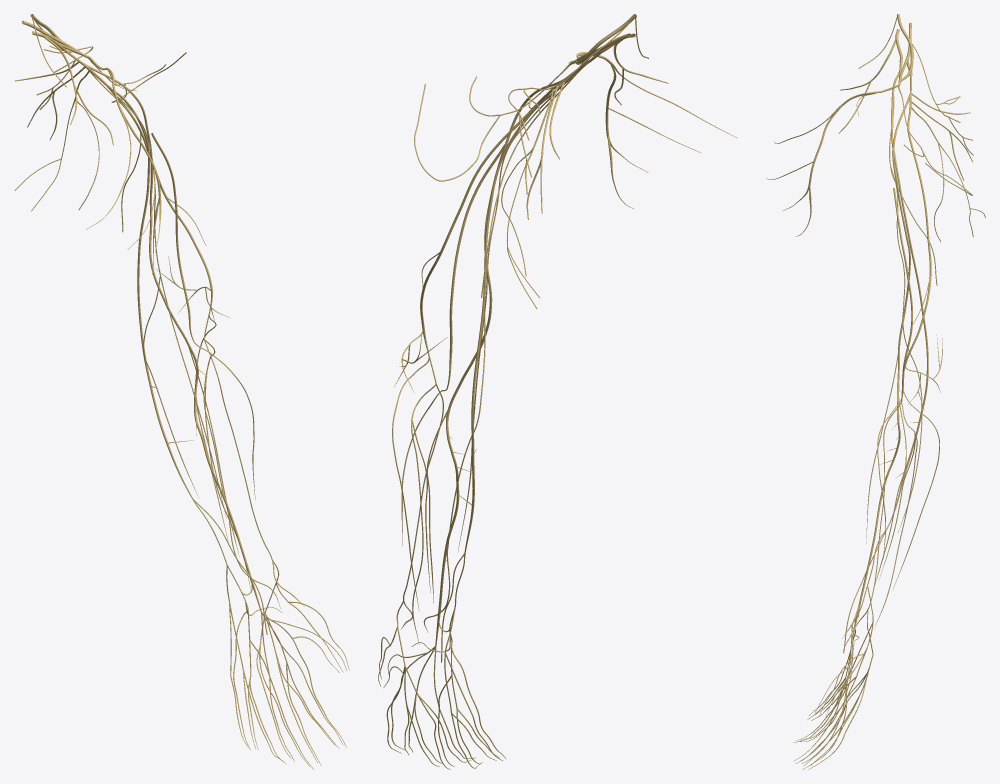
Rendered from detail-nervous-left-upper-limb.glb.
The picture shows the model from 3 angles, left to right: view 1: azimuth 30°, elevation 25°; view 2: azimuth 150°, elevation 25°; view 3: azimuth 270°, elevation 25°; orthographic projection. The views are drawn at different scales.
Visible parts, largest first — view 1: za-6ac62e71c269551e, za-6e355adbbd22980f, za-03e11ae936988429, za-e082ca404001cee0, za-c491767c440c0732, za-455066fc14ebf388, za-2bf7afbb018f9886, za-2bd063fffd71c927; view 2: za-6e355adbbd22980f, za-6ac62e71c269551e, za-e082ca404001cee0, za-03e11ae936988429, za-2bf7afbb018f9886, za-2bd063fffd71c927, za-49b36fbca85cd1ad, za-c491767c440c0732, za-1465ecc0cd5a5992; view 3: za-6ac62e71c269551e, za-6e355adbbd22980f, za-03e11ae936988429, za-2bf7afbb018f9886, za-e082ca404001cee0, za-c491767c440c0732, za-455066fc14ebf388, za-2bd063fffd71c927, za-49b36fbca85cd1ad.
Part boxes in pixels (x1,y1,x2,y2): za-6ac62e71c269551e: [83, 62, 261, 612]; za-6e355adbbd22980f: [78, 61, 227, 564]; za-03e11ae936988429: [256, 601, 349, 767]; za-e082ca404001cee0: [86, 55, 161, 274]; za-c491767c440c0732: [269, 619, 346, 769]; za-455066fc14ebf388: [203, 339, 304, 612]; za-2bf7afbb018f9886: [91, 69, 212, 338]; za-2bd063fffd71c927: [151, 133, 193, 341]; za-6e355adbbd22980f: [454, 64, 586, 606]; za-6ac62e71c269551e: [435, 79, 563, 646]; za-e082ca404001cee0: [568, 52, 737, 209]; za-03e11ae936988429: [378, 637, 472, 769]; za-2bf7afbb018f9886: [420, 88, 552, 384]; za-2bd063fffd71c927: [447, 144, 504, 387]; za-49b36fbca85cd1ad: [501, 89, 553, 308]; za-c491767c440c0732: [383, 652, 476, 766]; za-1465ecc0cd5a5992: [508, 15, 635, 194]; za-6ac62e71c269551e: [852, 93, 910, 637]; za-6e355adbbd22980f: [867, 80, 928, 585]; za-03e11ae936988429: [799, 653, 873, 769]; za-2bf7afbb018f9886: [901, 106, 931, 402]; za-e082ca404001cee0: [766, 83, 900, 236]; za-c491767c440c0732: [793, 647, 851, 769]; za-455066fc14ebf388: [842, 402, 901, 654]; za-2bd063fffd71c927: [893, 188, 912, 397]; za-49b36fbca85cd1ad: [910, 106, 985, 241].
Size of the model in its own units: 0.2983 by 0.7524 by 0.2287.
